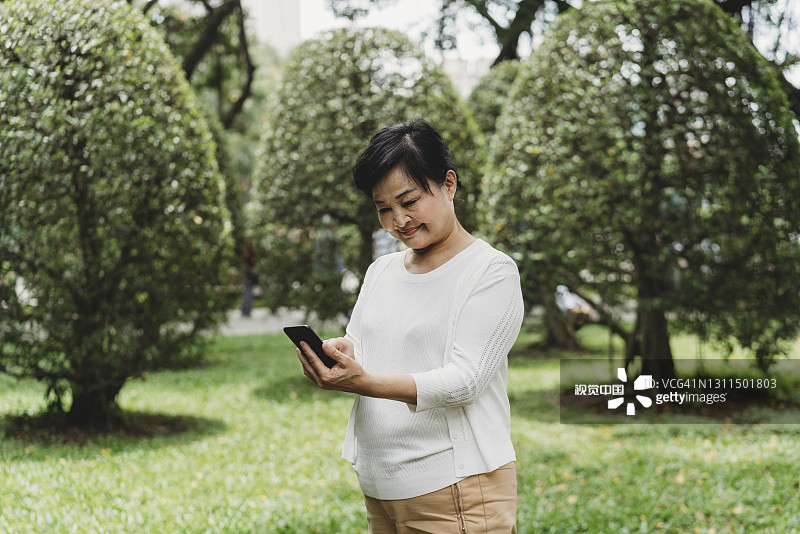reading: (266, 311, 373, 400)
